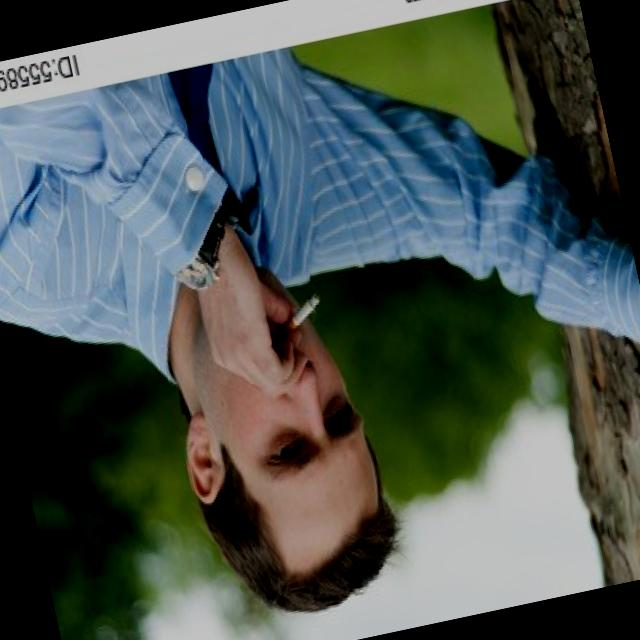cigarette: (272, 290, 326, 335)
